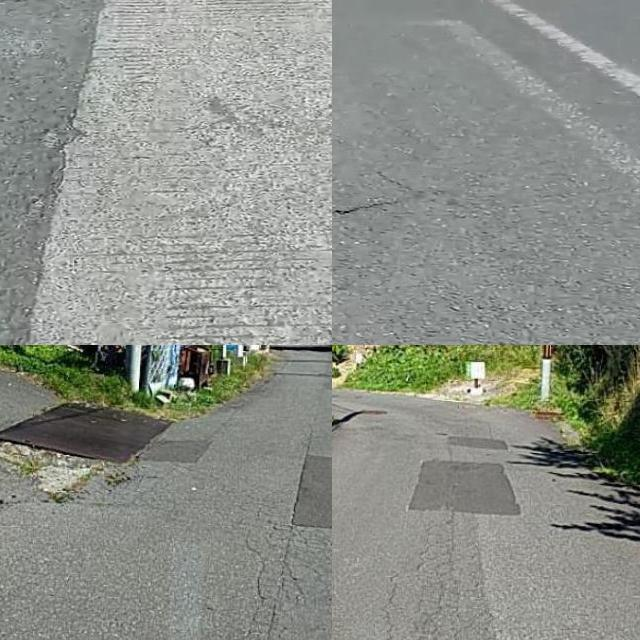Sambungan: (15, 0, 332, 345), (405, 461, 520, 511), (442, 433, 511, 446)
